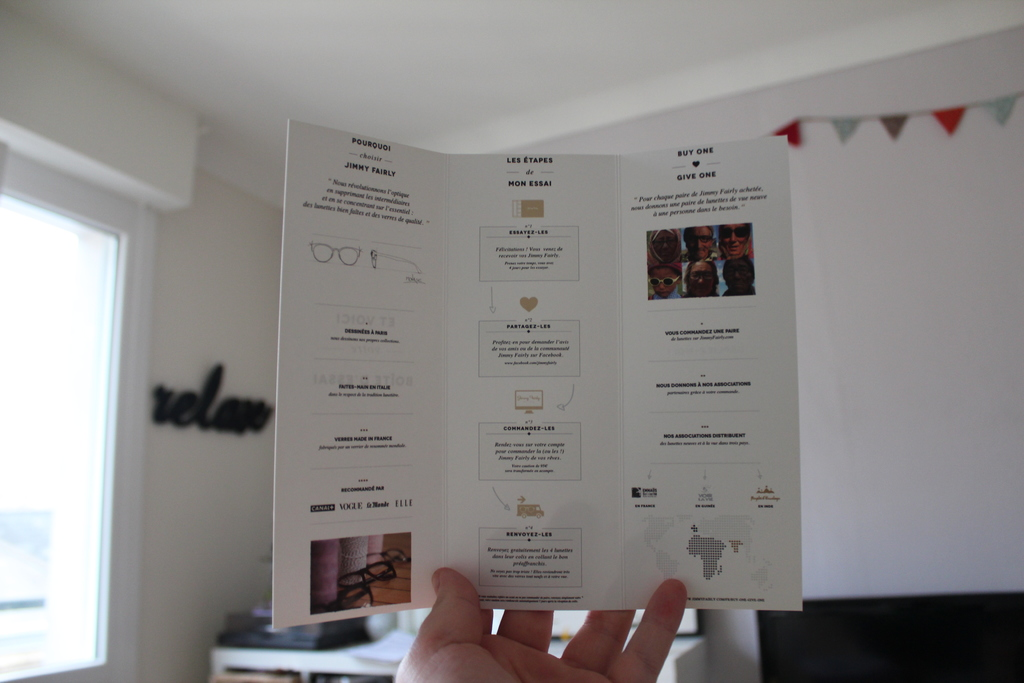Human_hand: (392, 579, 676, 682)
